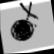not correct: (6, 0, 43, 45)
